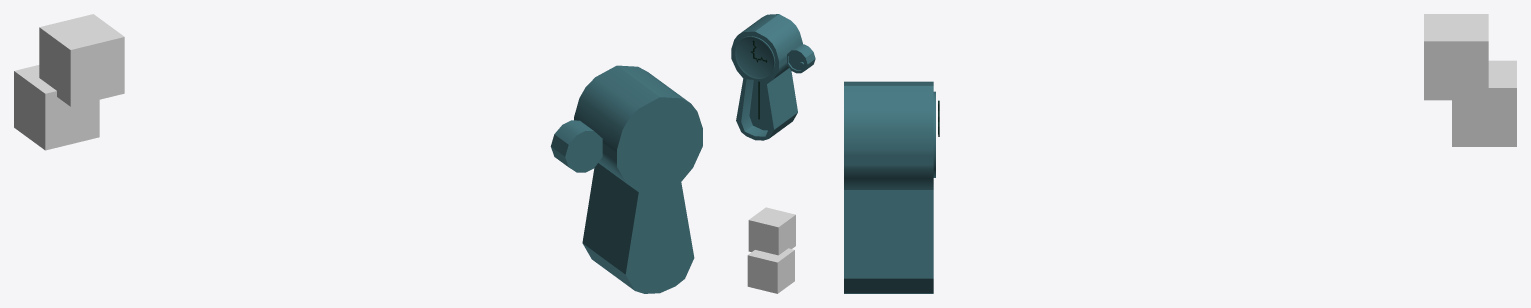
Rendered from Clock00.fbx.
The picture shows the model from 3 angles, left to right: view 1: azimuth 30°, elevation 25°; view 2: azimuth 150°, elevation 25°; view 3: azimuth 270°, elevation 25°; orthographic projection. The views are drawn at different scales.
Parts seen in each view (by area): view 1: clock, Cube.001, Cube; view 2: clock, Cube.001, Cube, pendulum; view 3: clock, Cube.001, Cube.
Part boxes in pixels (x1,y1,x2,y2): clock: (550,65,702,293); Cube.001: (39,14,124,106); Cube: (14,65,99,150); clock: (731,14,815,140); Cube.001: (748,207,795,255); Cube: (747,248,794,293); pendulum: (758,81,759,119); clock: (844,81,935,293); Cube.001: (1424,14,1488,100); Cube: (1452,60,1516,146).
Size of the model in its own units: 1345 by 692 by 2073.
